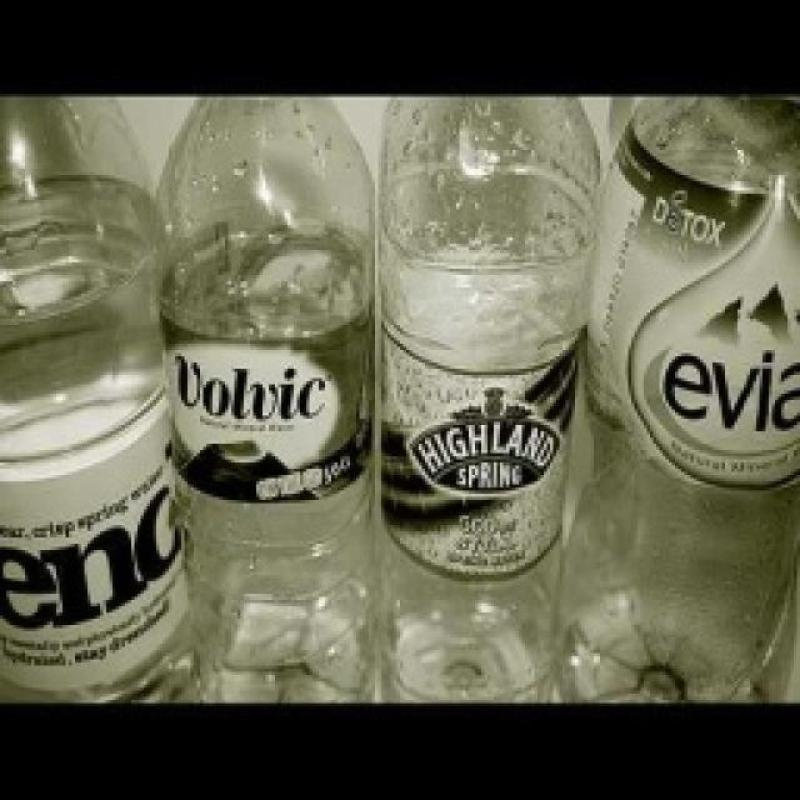botella: (142, 96, 386, 702), (567, 94, 798, 700), (373, 97, 604, 701), (0, 96, 215, 700)
